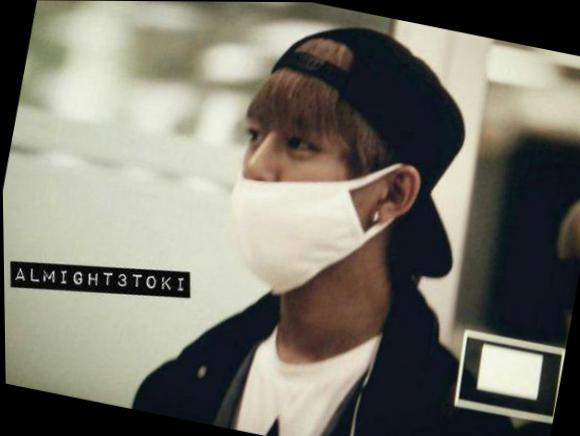WRONG: (219, 111, 389, 295)
